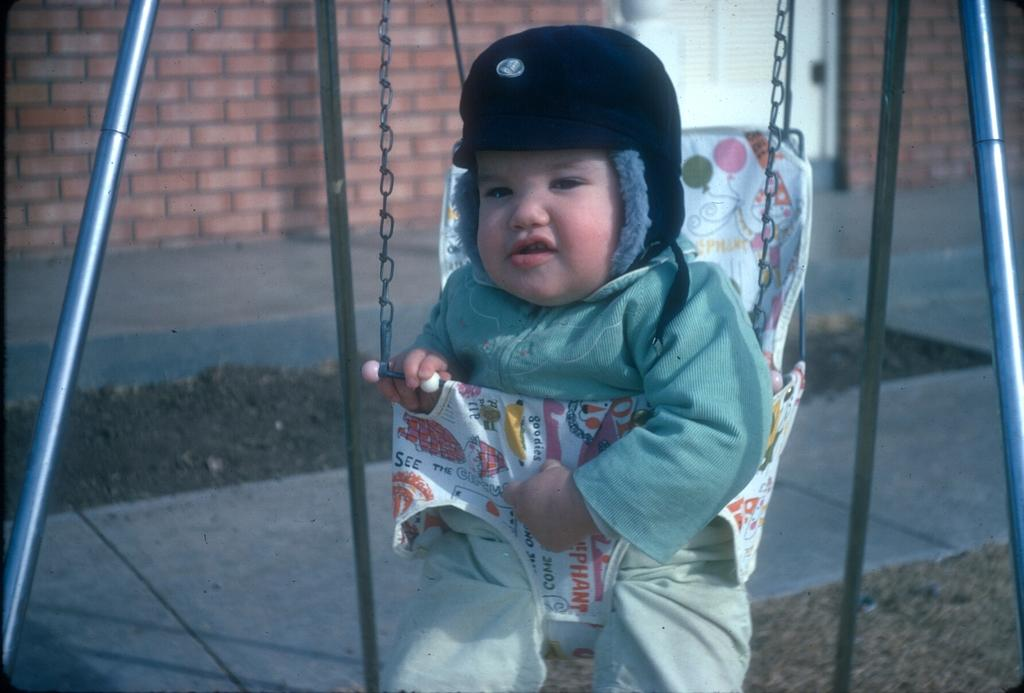Sem Máscara: (468, 134, 631, 309)
